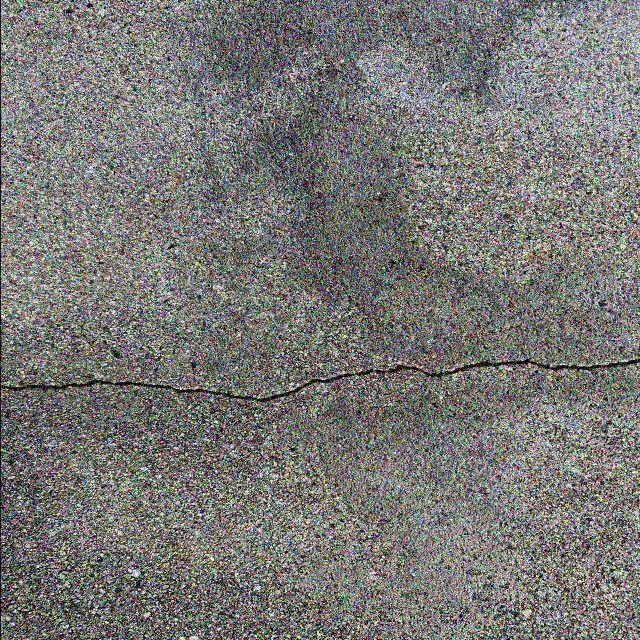SurfaceCrack: (1, 305, 640, 441)
